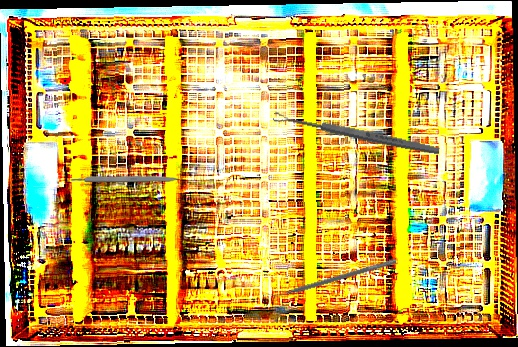Scalpel Handle: (69, 175, 181, 182)
Spatula Surgical: (267, 252, 397, 303)
Surgical Spoon: (272, 110, 441, 157)
